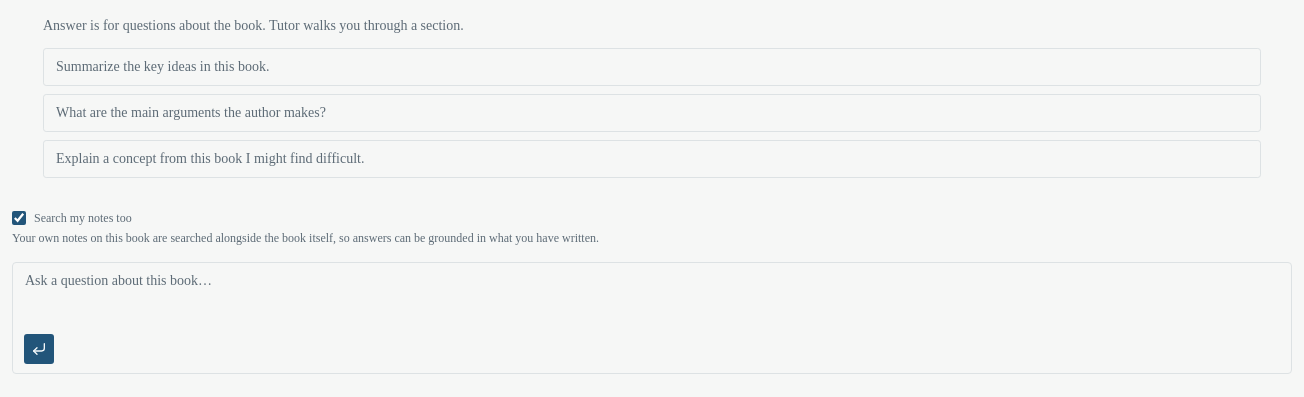
Test: typed own-budget refusals › budget refusal: a turn refused by the learner's own monthly budget says so and names Account
The image size is (1304, 397).
In the text box with placeholder "Ask a question about this book…": {"x": 652, "y": 295} top-left (13, 263), bottom-right (1291, 327), type "Who wrote the first algorithm?"
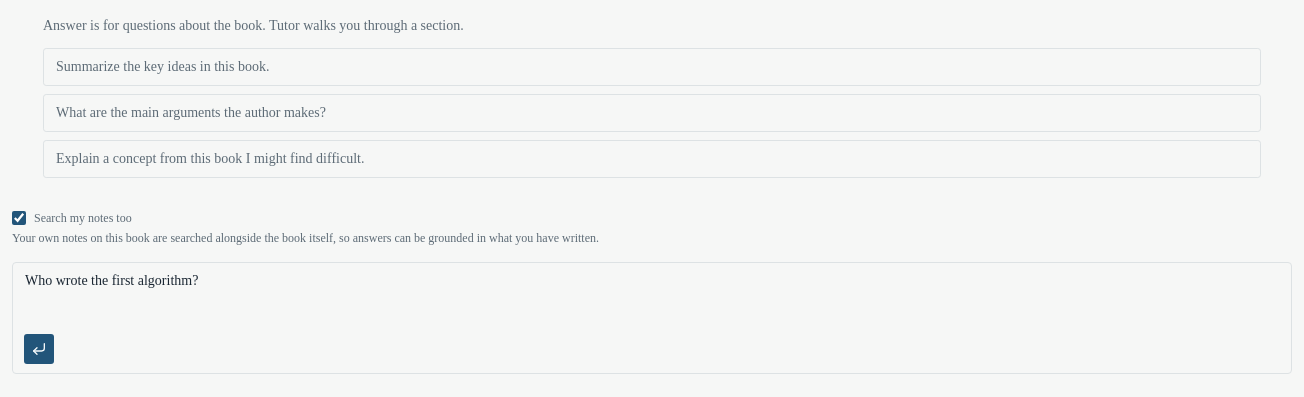
Click the button named "Submit": {"x": 39, "y": 349} top-left (23, 333), bottom-right (55, 365)
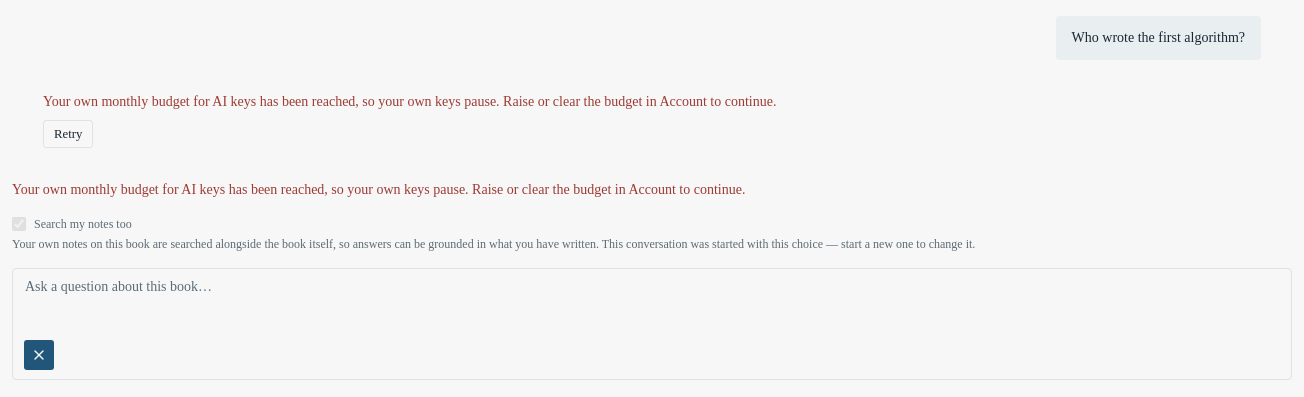
Expected: the text "Your own monthly budget for AI keys has been reached, so your own keys pause. Raise or clear the budget in Account to co" is shown, top-left (43, 94), bottom-right (776, 109)
